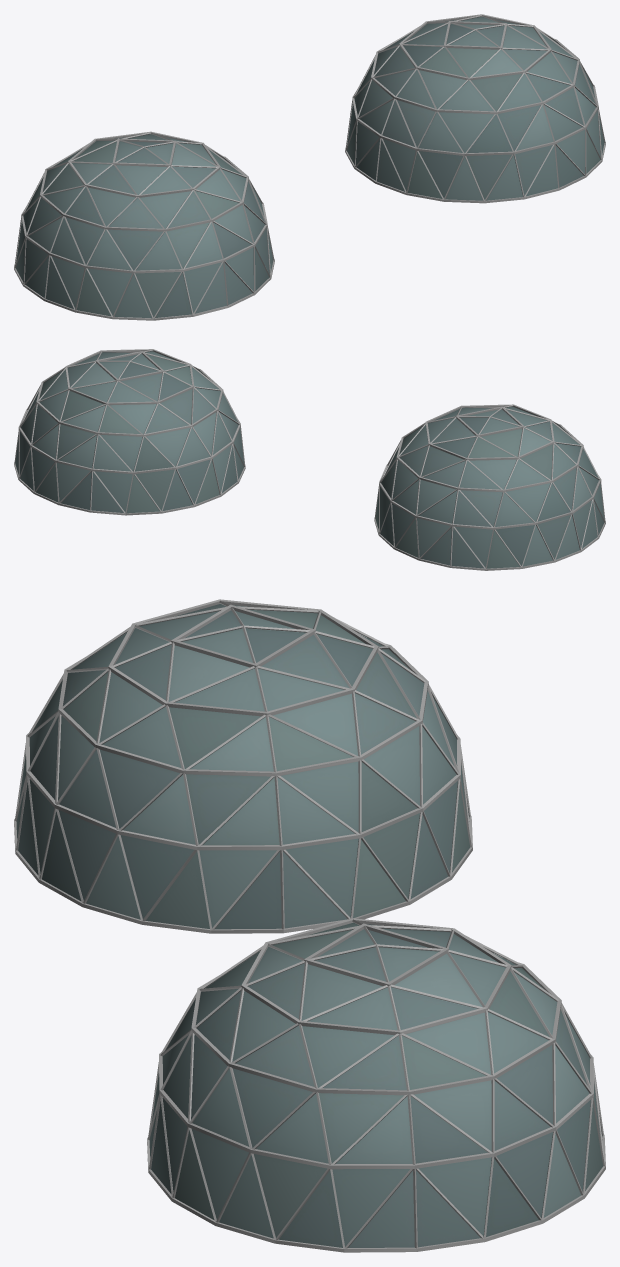
Rendered from central_park_cir_A.FBX.
3 views of the same model, one above another, from view 1: azimuth 30°, elevation 25°; view 2: azimuth 150°, elevation 25°; view 3: azimuth 270°, elevation 25° (orthographic). The views are drawn at different scales.
Visible parts, largest first — view 1: central_park_cir_A001, central_park_cir_A; view 2: central_park_cir_A001, central_park_cir_A; view 3: central_park_cir_A, central_park_cir_A001.
Boxes of the visible parts, left/top/right/bottom form: central_park_cir_A001: left=14, top=131, right=274, bottom=320; central_park_cir_A: left=345, top=14, right=605, bottom=203; central_park_cir_A001: left=374, top=404, right=605, bottom=570; central_park_cir_A: left=14, top=349, right=245, bottom=515; central_park_cir_A: left=147, top=918, right=605, bottom=1252; central_park_cir_A001: left=14, top=599, right=472, bottom=933.
Bounding box in the file's own units: 3168 × 609 × 1546.
